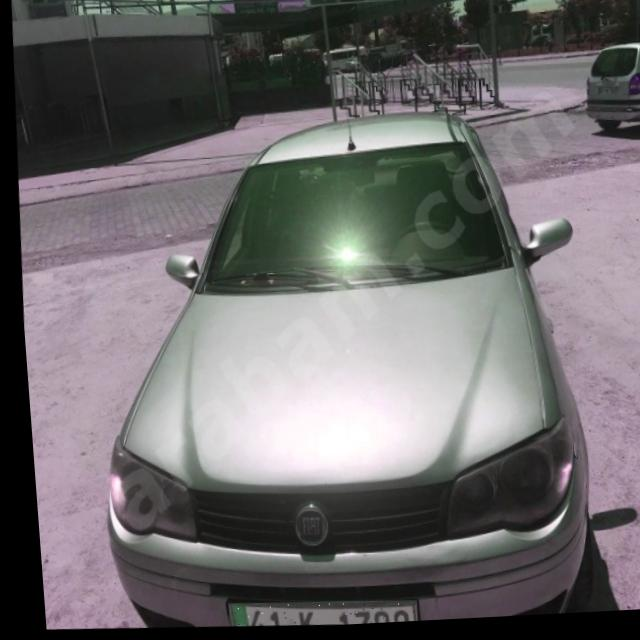license_plate: (218, 597, 408, 633)
